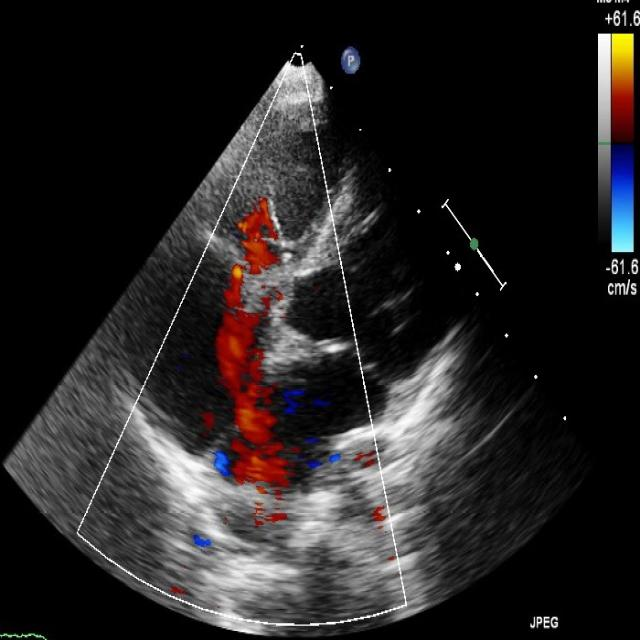ASDType2: (208, 298, 290, 481)
